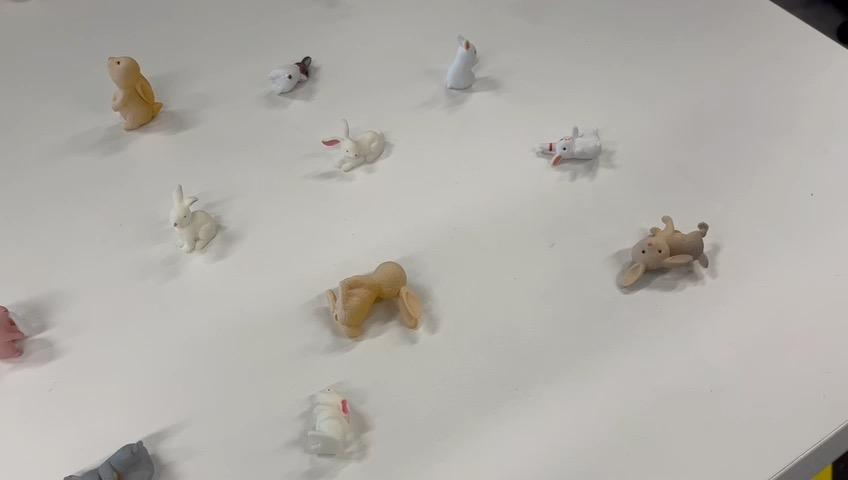pet: (315, 247, 428, 332), (616, 205, 710, 290), (156, 171, 233, 263), (99, 44, 167, 137), (311, 112, 392, 182), (56, 434, 161, 480), (528, 120, 617, 171), (309, 372, 357, 459), (442, 25, 482, 107), (262, 50, 318, 101)
